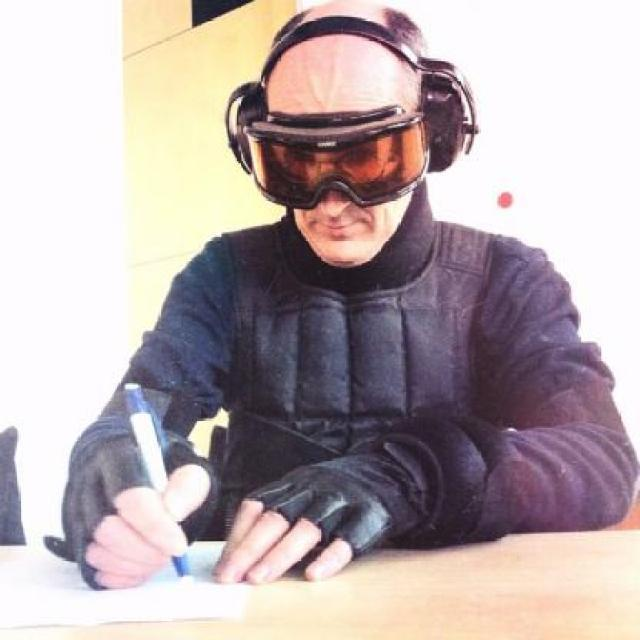earphone: (405, 13, 498, 187)
